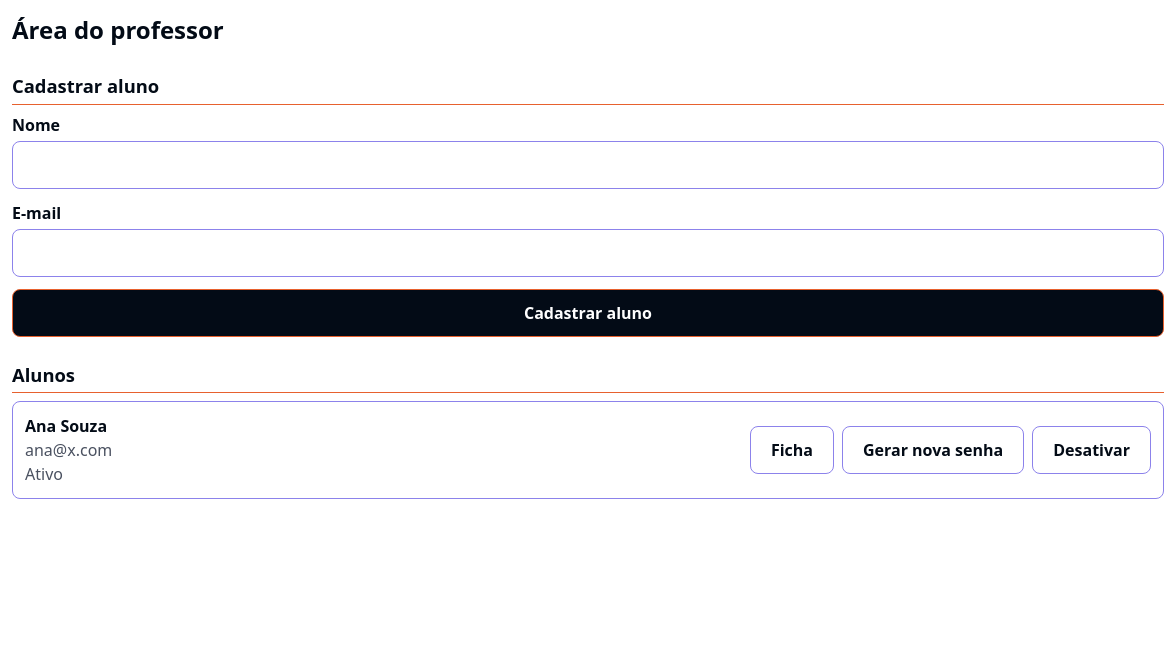
AreaProfessor › avisa quando a nova senha não derrubou as sessões abertas
The image size is (1176, 672).
Step 1. Click the button "Gerar nova senha" → (933, 450), box [842,426,1024,474]
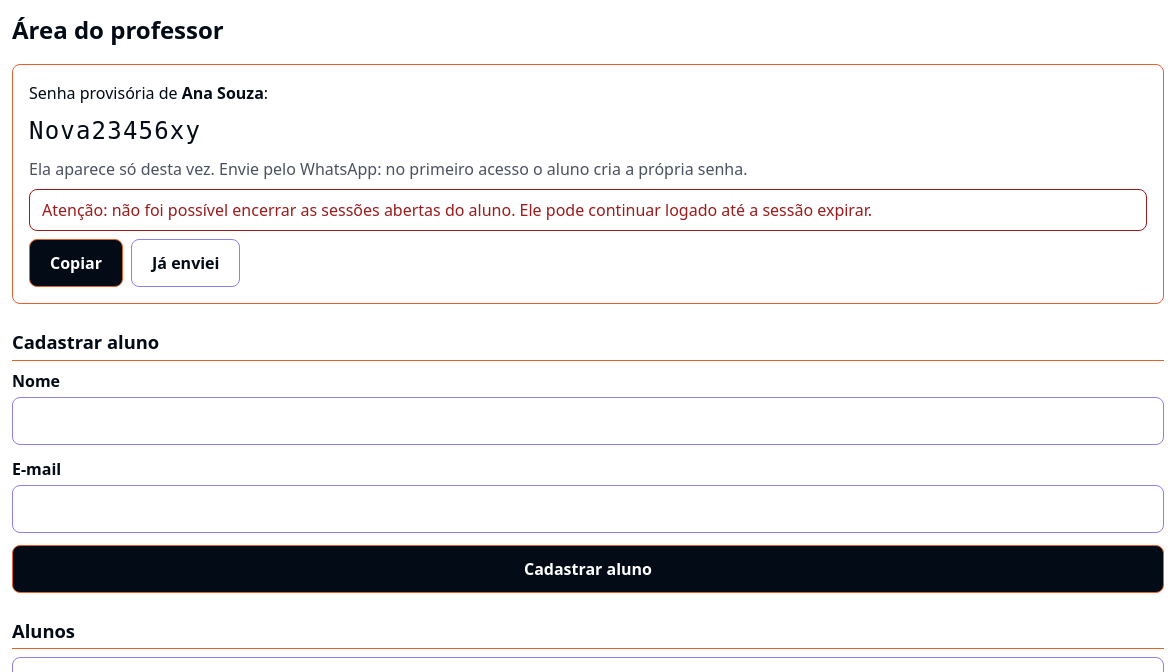
Expected: the message shows "Nova23456xy", [29,117,201,145]
Expected: the message shows "sessões abertas", [42,199,872,221]
